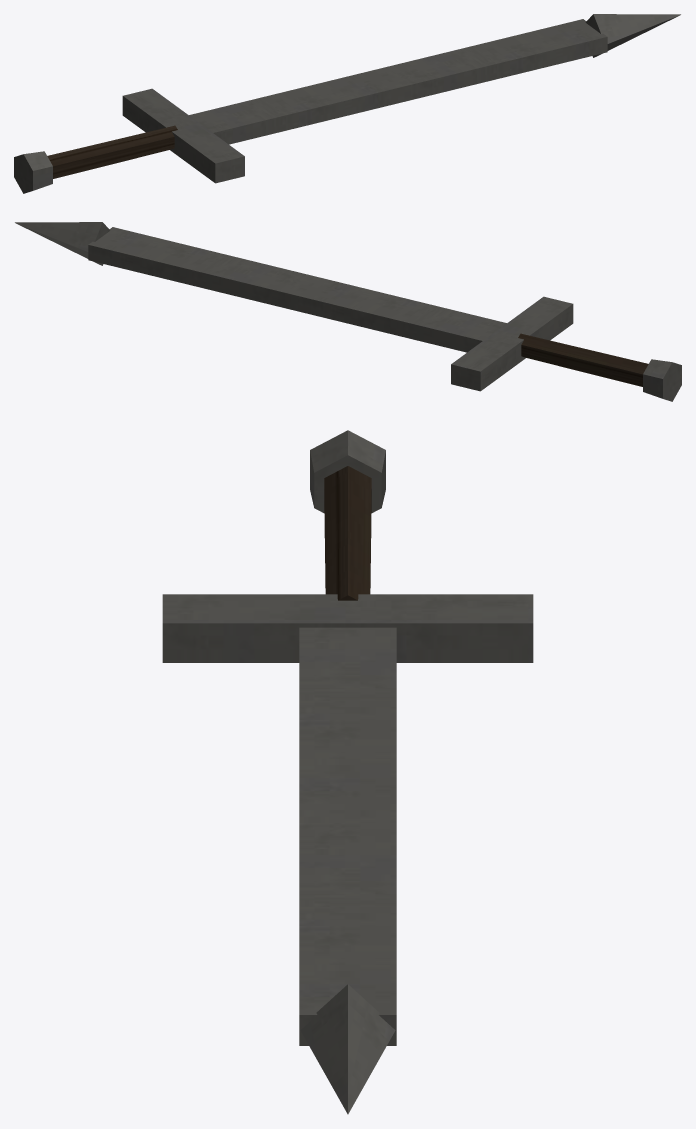
Rendered from loot_sword_g0.glb.
The picture shows the model from 3 angles, top to bottom: view 1: azimuth 30°, elevation 25°; view 2: azimuth 150°, elevation 25°; view 3: azimuth 270°, elevation 25°; orthographic projection. The views are drawn at different scales.
Visible parts, largest first — view 1: loot_sword_g0; view 2: loot_sword_g0; view 3: loot_sword_g0.
Part boxes in pixels (x1=…): loot_sword_g0: x1=14, y1=14, x2=680, y2=193; loot_sword_g0: x1=15, y1=222, x2=681, y2=401; loot_sword_g0: x1=162, y1=430, x2=533, y2=1114.
Bounding box in the file's own units: 1.56 × 0.1 × 0.38.
Materials: 2 (2 with a texture image).
